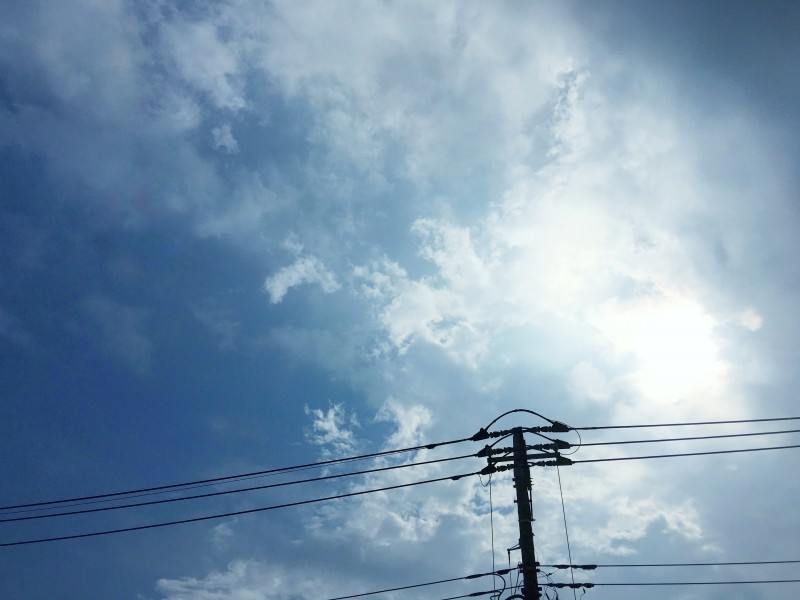utility_pole: (456, 401, 585, 501)
